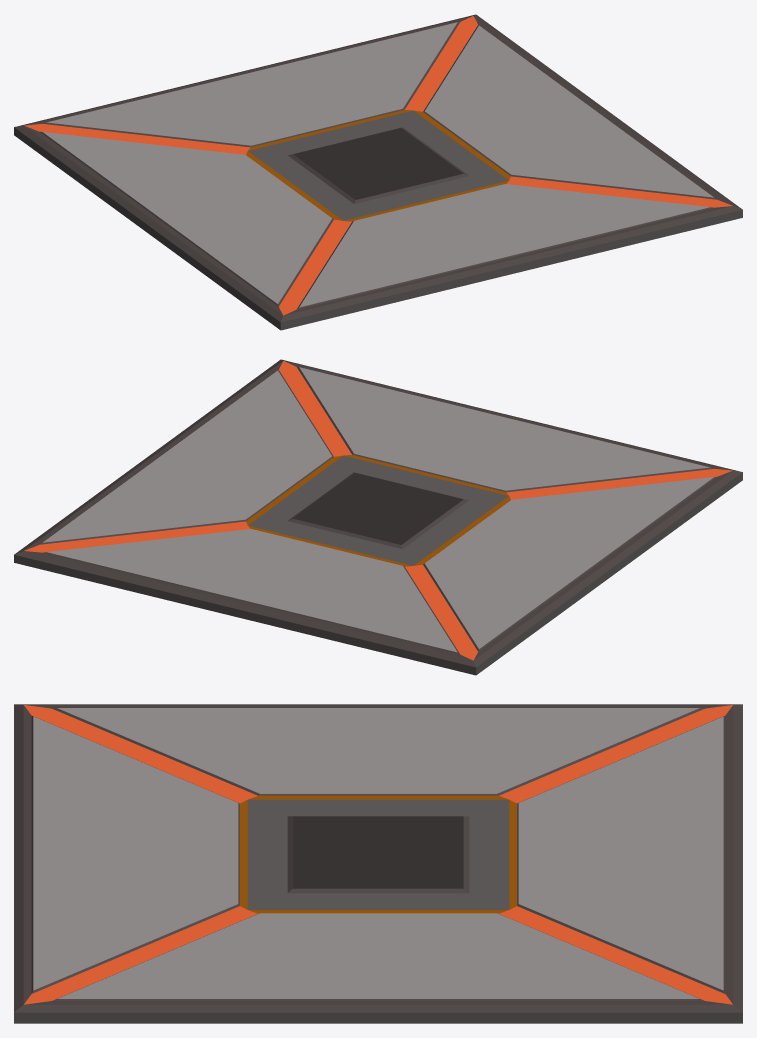
Rendered from Floor_Module_03.glb.
3 renders of one model, top to bottom at view 1: azimuth 30°, elevation 25°; view 2: azimuth 150°, elevation 25°; view 3: azimuth 270°, elevation 25°, orthographic. The views are drawn at different scales.
Parts seen in each view (by area): view 1: Floor_Module_03; view 2: Floor_Module_03; view 3: Floor_Module_03.
Boxes of the visible parts, x1=… form: Floor_Module_03: x1=14, y1=14, x2=742, y2=330; Floor_Module_03: x1=14, y1=359, x2=742, y2=675; Floor_Module_03: x1=14, y1=704, x2=742, y2=1023.
Size of what is drawn, in the model's own units: 3 by 0.0774 by 3.
2 materials, 2 textured.
